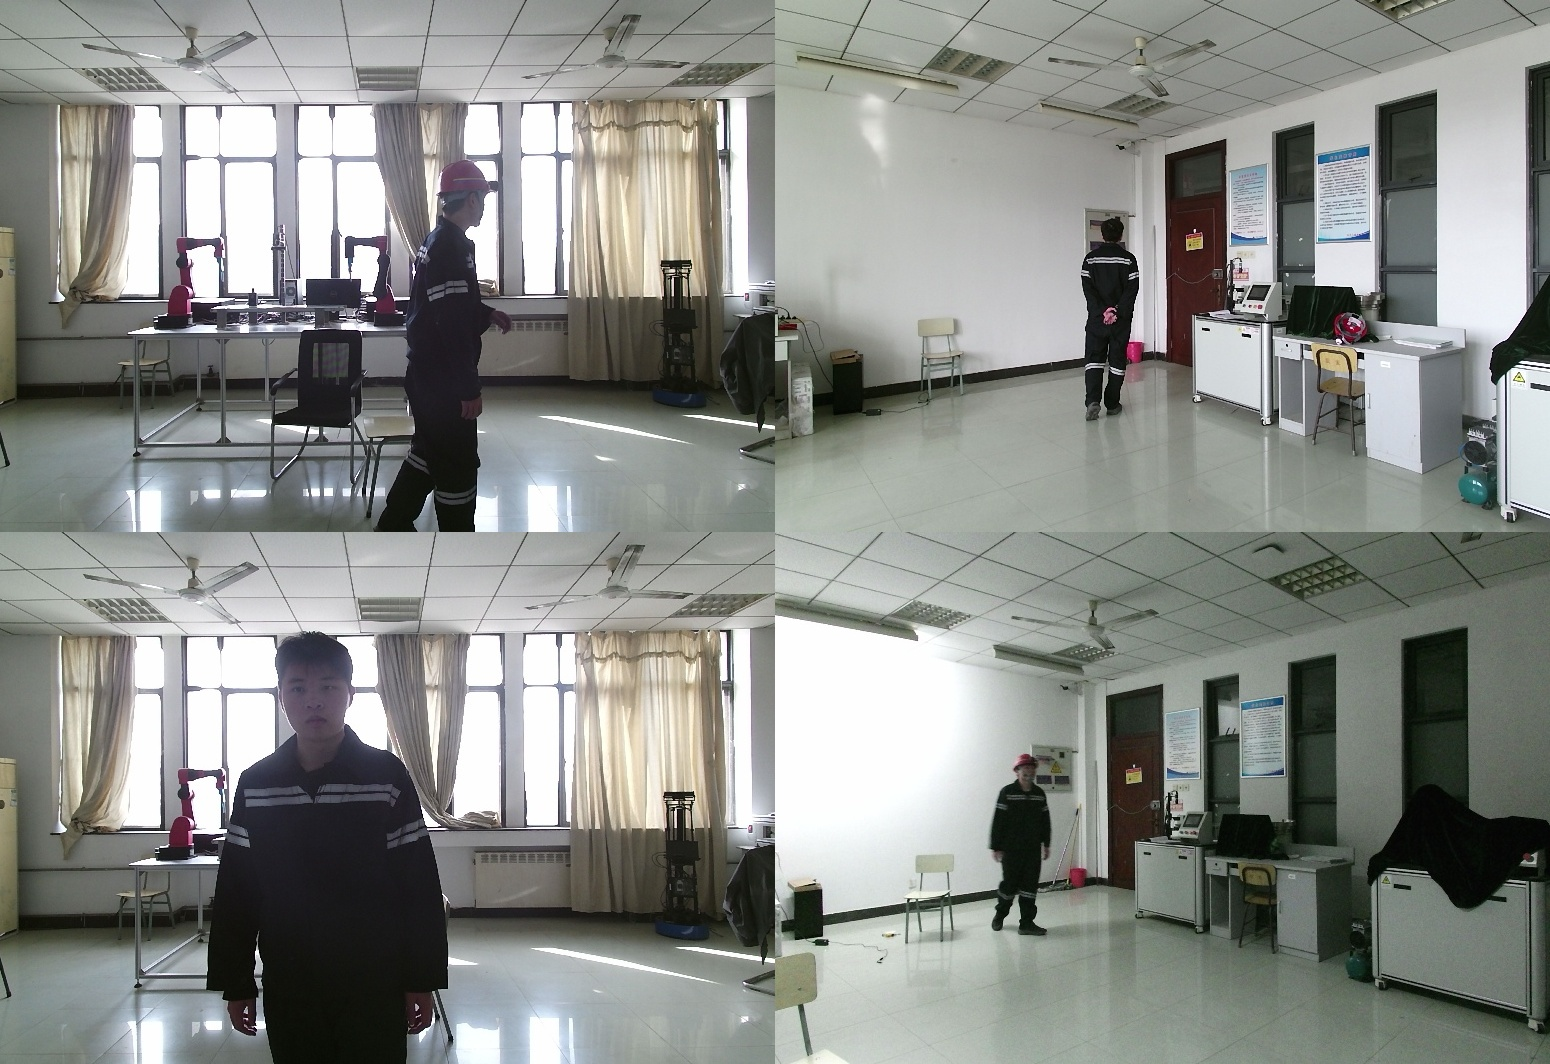person: (220, 632, 459, 1064), (382, 161, 525, 532), (1074, 217, 1143, 426), (980, 756, 1045, 948)
